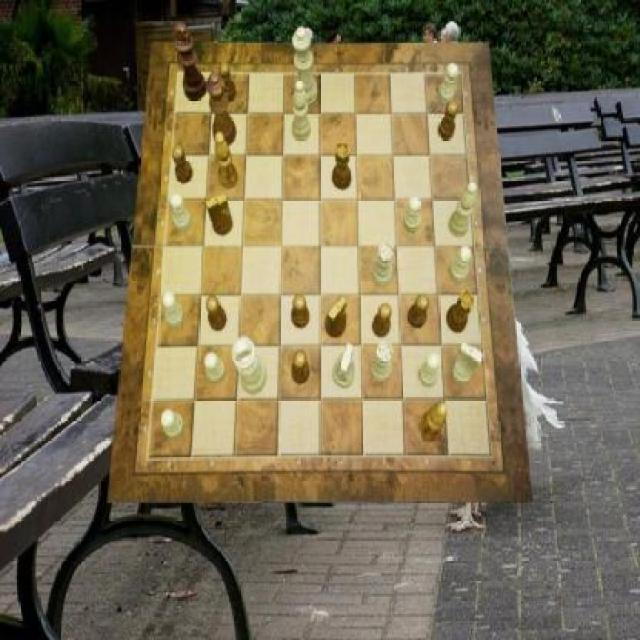bishop: (216, 131, 240, 188), (420, 403, 448, 443)
black-bishop: (174, 23, 209, 102)
black-king: (206, 192, 234, 236), (325, 295, 347, 338)
black-knight: (218, 62, 238, 103), (172, 146, 193, 185), (438, 100, 458, 140), (408, 296, 430, 330), (208, 296, 228, 332), (372, 303, 392, 338), (291, 294, 310, 328), (292, 350, 310, 384)
black-pawn: (206, 73, 236, 148)
black-queen: (448, 291, 475, 333), (332, 143, 352, 191)
black-rook: (449, 182, 477, 236), (292, 80, 312, 142)
white-bishop: (232, 337, 268, 395)
white-king: (451, 341, 483, 384), (332, 343, 355, 389)
white-knight: (437, 63, 458, 105), (449, 246, 472, 284), (169, 194, 192, 232), (161, 291, 184, 328), (418, 352, 441, 387), (205, 352, 227, 383), (162, 411, 186, 438), (403, 196, 421, 232)
white-pawn: (292, 26, 318, 106)
white-queen: (372, 242, 395, 286), (371, 343, 394, 383)
